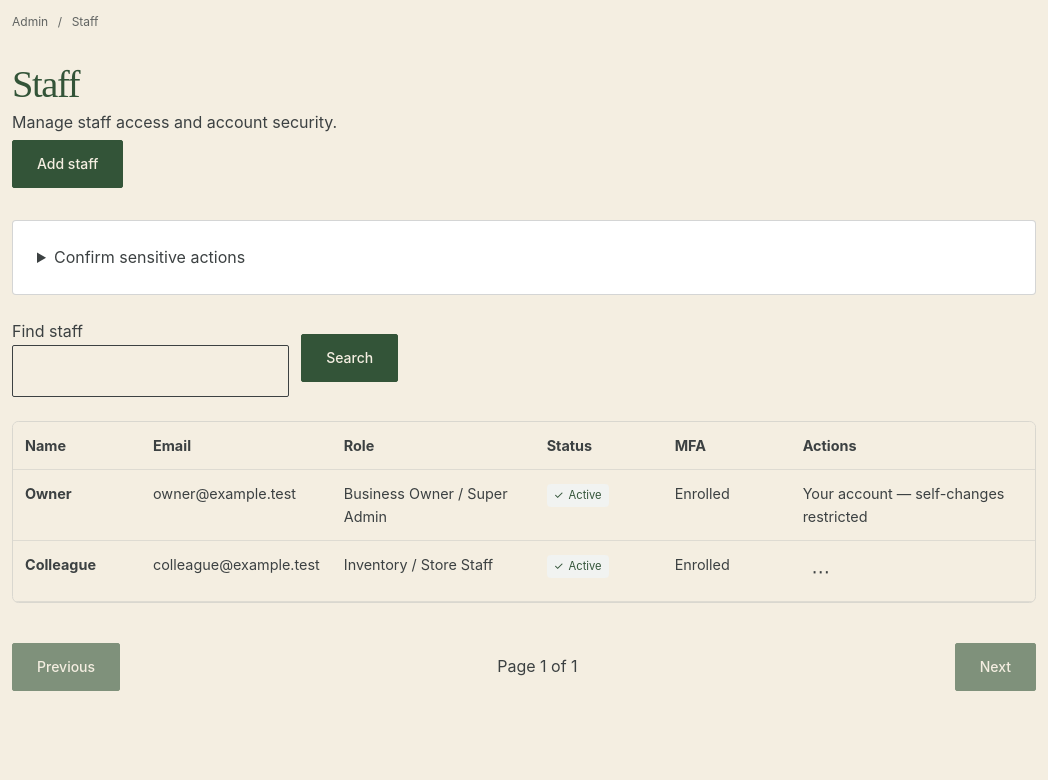
Test: uses the compact shared overflow for another staff member's valid controls
Expected: the text "Your account — self-changes restricted" is shown, [803,485,1004,525]
Click the button named "More actions" at point(821, 571), box [803,553,839,589]
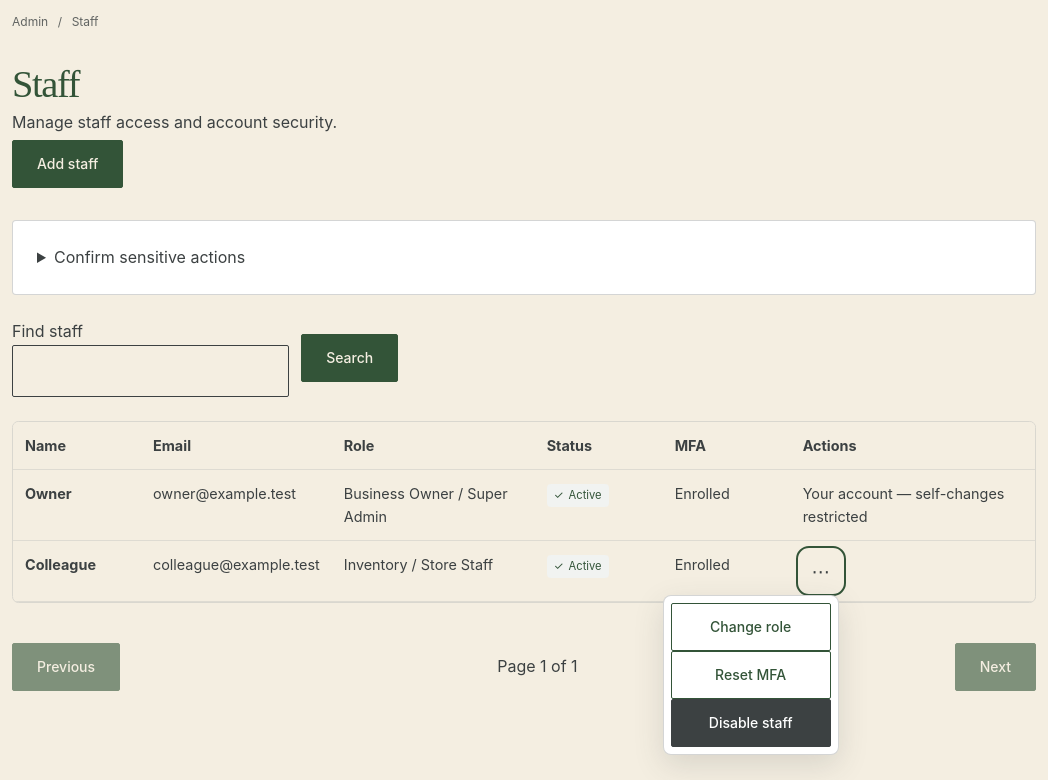
Now the button "Change role" is shown, box [671,603,831,651]
Now the button "Reset MFA" is shown, box [671,651,831,699]
Now the button "Disable staff" is shown, box [671,699,831,747]
